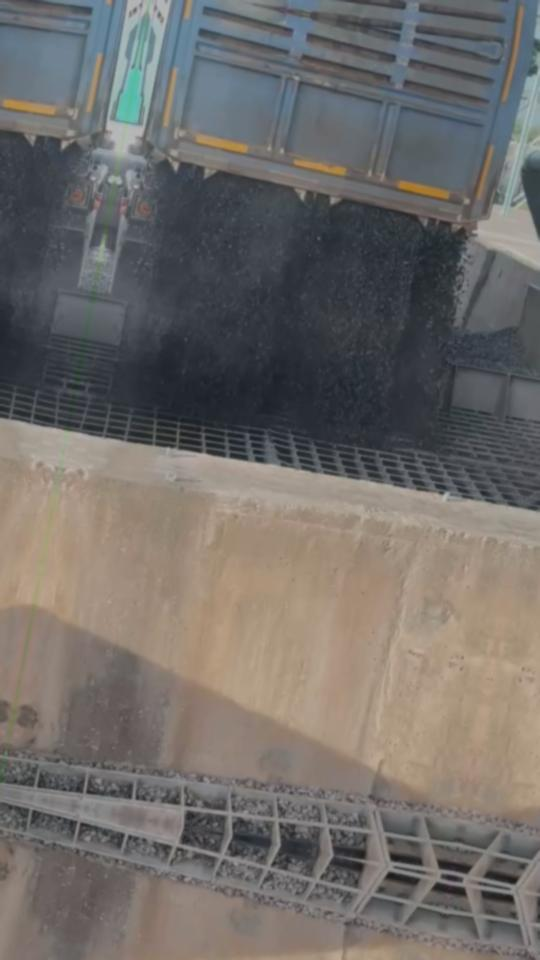gravel: (121, 163, 465, 448), (3, 745, 464, 831), (448, 329, 540, 379), (278, 798, 321, 841), (232, 794, 273, 836), (88, 775, 132, 798), (327, 807, 368, 829), (136, 785, 179, 804), (97, 251, 114, 295), (330, 828, 366, 846)
